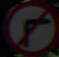Don't turn right: (10, 3, 51, 46)
